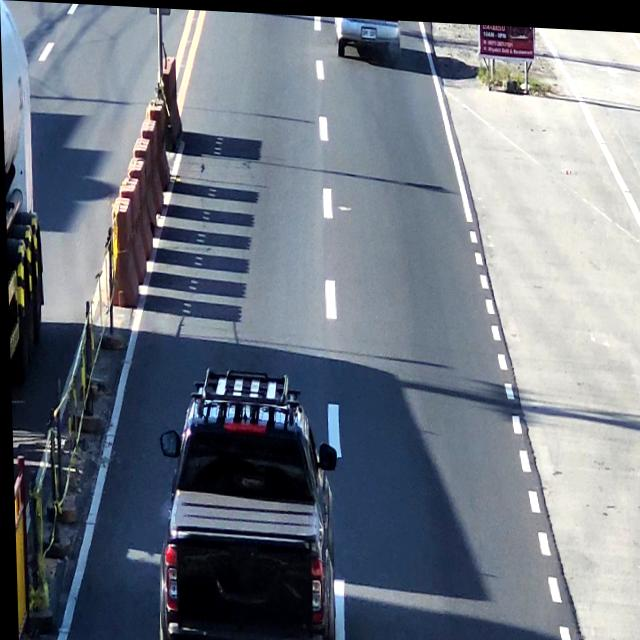Car: (159, 372, 333, 640), (334, 14, 406, 56)
